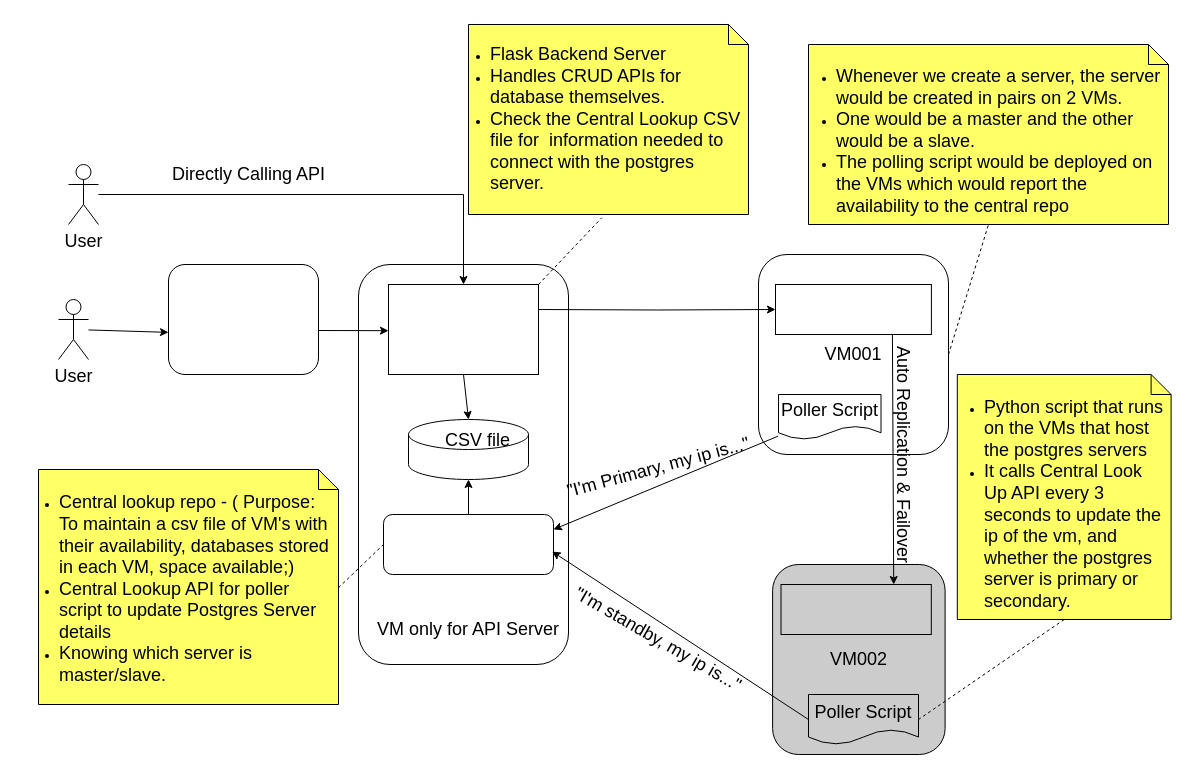
Some shapes in this 1189 by 772 pixel diagram are drawn without their labels. The centre of each missing label's shape, as x and y in pixels:
Central Lookup Server (Handle Central Lookup API ): the point at 468,544
Flask Backend Server (Handle Database Operations API): the point at 463,329
Primary Postgres Instance .: the point at 852,309
React.js Web Interface (Hosted on a 3rd party cloud): the point at 243,319
Standby Postgres Instance: the point at 855,609
